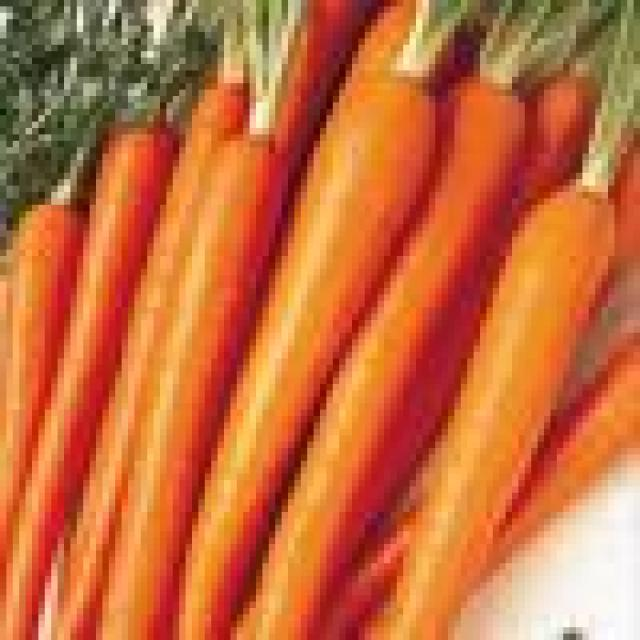Fresh_Carrot: (174, 0, 479, 640), (388, 8, 640, 640), (97, 0, 304, 640)
